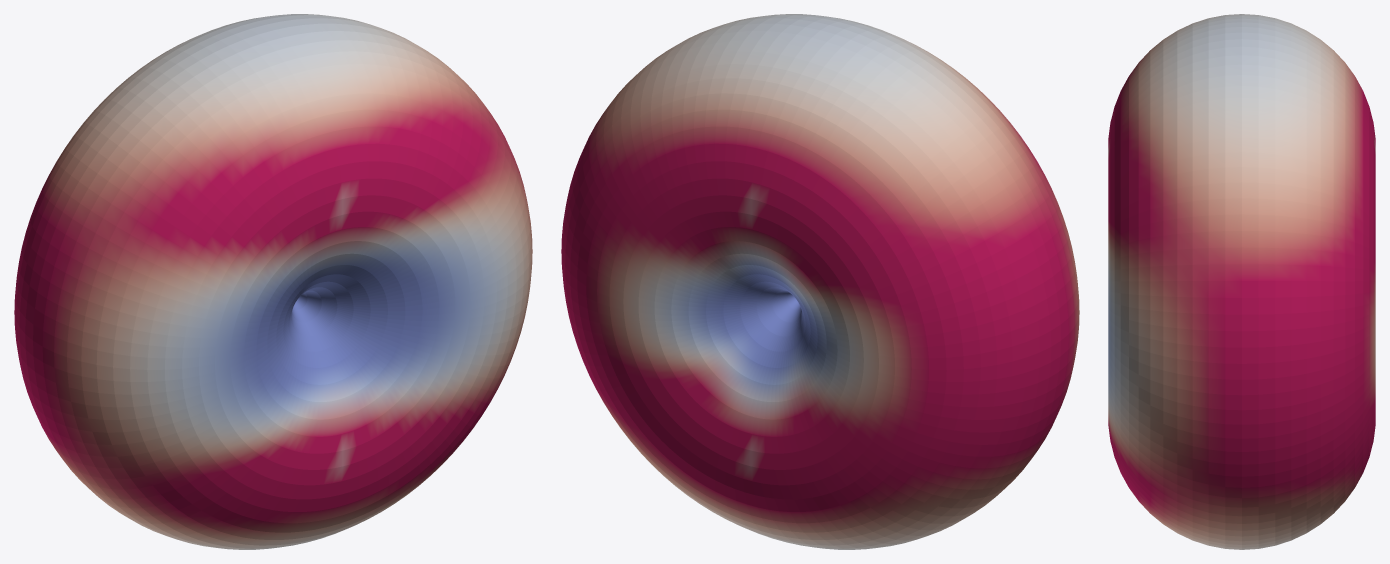
The picture shows the model from 3 angles, left to right: view 1: azimuth 30°, elevation 25°; view 2: azimuth 150°, elevation 25°; view 3: azimuth 270°, elevation 25°; orthographic projection. The views are drawn at different scales.
Visible parts, largest first — view 1: world; view 2: world; view 3: world.
Part boxes in pixels (bbox=[...]): world: bbox=[14, 14, 532, 549]; world: bbox=[561, 14, 1079, 549]; world: bbox=[1108, 14, 1375, 549].
Size of the model in its own units: 20 by 20 by 9.98.
